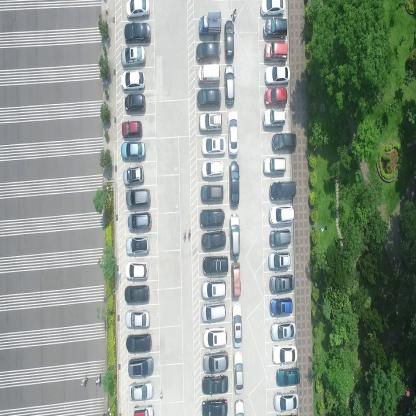car: (202, 350, 230, 375), (198, 10, 223, 36), (203, 326, 228, 351), (263, 64, 291, 86), (200, 278, 228, 300), (200, 302, 228, 324), (123, 22, 152, 43), (262, 18, 288, 41), (200, 231, 227, 253), (127, 356, 154, 378), (128, 380, 155, 402), (268, 180, 296, 201), (272, 131, 297, 154), (274, 389, 299, 412), (121, 45, 146, 68), (120, 68, 145, 91), (270, 320, 296, 342), (272, 343, 298, 365), (120, 140, 146, 162), (126, 211, 152, 233), (124, 283, 150, 305), (201, 255, 229, 275), (263, 108, 287, 131), (263, 86, 288, 108), (262, 155, 287, 177), (196, 63, 221, 85), (198, 112, 223, 134), (126, 188, 151, 210), (275, 366, 301, 387), (124, 308, 150, 329), (202, 375, 229, 395), (229, 160, 240, 209), (258, 0, 286, 19), (264, 40, 287, 63), (125, 235, 150, 256), (269, 204, 295, 224), (269, 273, 295, 293), (200, 208, 226, 228), (126, 332, 152, 352), (270, 296, 293, 318), (229, 212, 240, 258), (232, 351, 244, 393), (196, 42, 221, 62), (196, 88, 221, 108), (201, 135, 226, 155), (228, 110, 239, 155), (125, 0, 151, 19), (202, 397, 229, 415), (124, 92, 146, 114), (200, 160, 224, 180), (232, 302, 242, 349), (125, 260, 148, 280), (200, 184, 224, 203), (270, 228, 292, 248), (268, 249, 290, 269), (122, 166, 144, 186), (225, 19, 235, 62), (225, 64, 235, 107), (120, 120, 142, 139), (231, 259, 241, 299), (132, 403, 156, 415), (235, 397, 244, 415)
